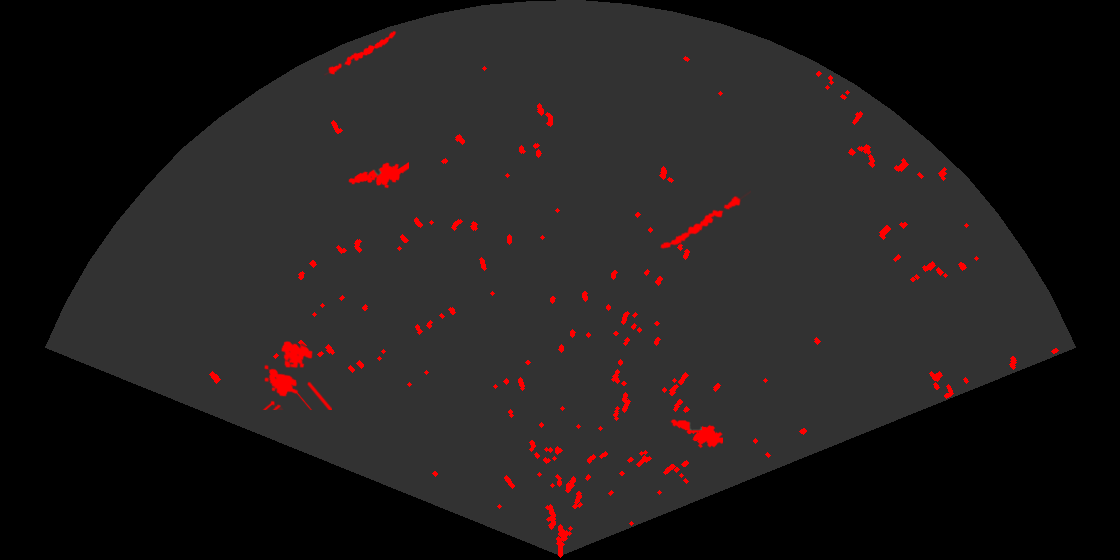cage: (261, 339, 332, 410)
chain: (659, 189, 751, 251), (324, 29, 398, 77)
frogman: (347, 161, 409, 190), (669, 418, 723, 450)
